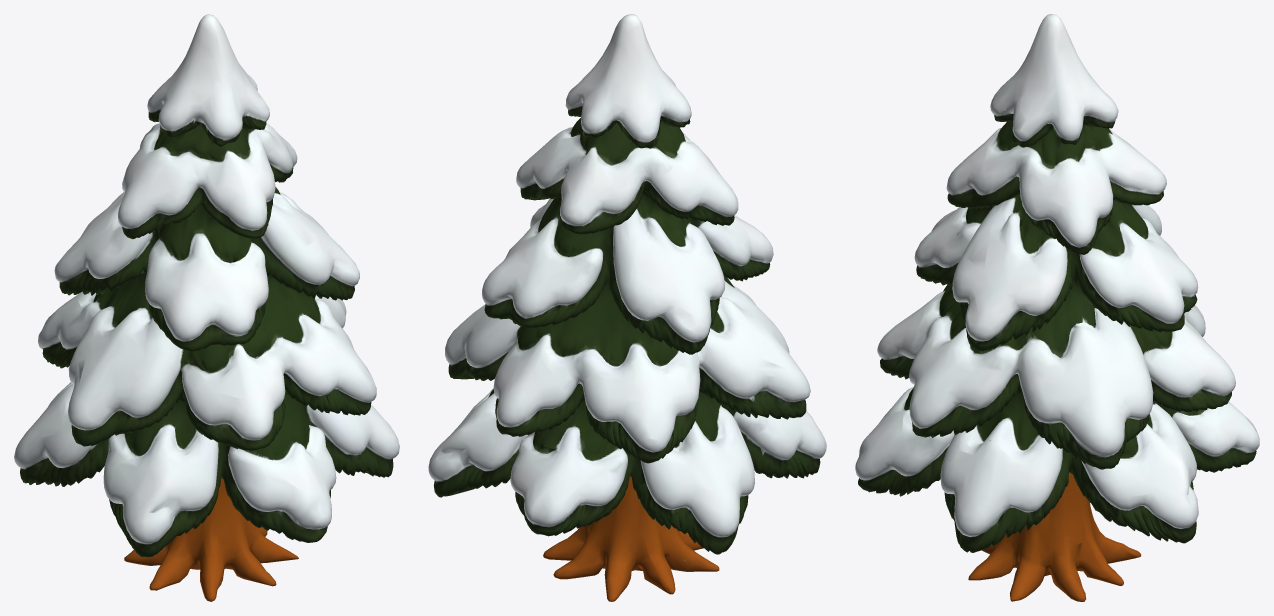
Rendered from pine_snow_c.glb.
3 views of the same model, side by side, from view 1: azimuth 30°, elevation 25°; view 2: azimuth 150°, elevation 25°; view 3: azimuth 270°, elevation 25° (orthographic).
Visible parts, largest first — view 1: tripo_node_cacfad4b-0d88-4f2a-af9f-743c8062c75e; view 2: tripo_node_cacfad4b-0d88-4f2a-af9f-743c8062c75e; view 3: tripo_node_cacfad4b-0d88-4f2a-af9f-743c8062c75e.
Boxes of the visible parts, x1,y1,x2,y2 form: tripo_node_cacfad4b-0d88-4f2a-af9f-743c8062c75e: (14,14,399,601); tripo_node_cacfad4b-0d88-4f2a-af9f-743c8062c75e: (428,14,826,601); tripo_node_cacfad4b-0d88-4f2a-af9f-743c8062c75e: (855,14,1259,601).
Size of the model in its own units: 3.02 by 5 by 3.31.
Materials: 1 (1 with a texture image).
